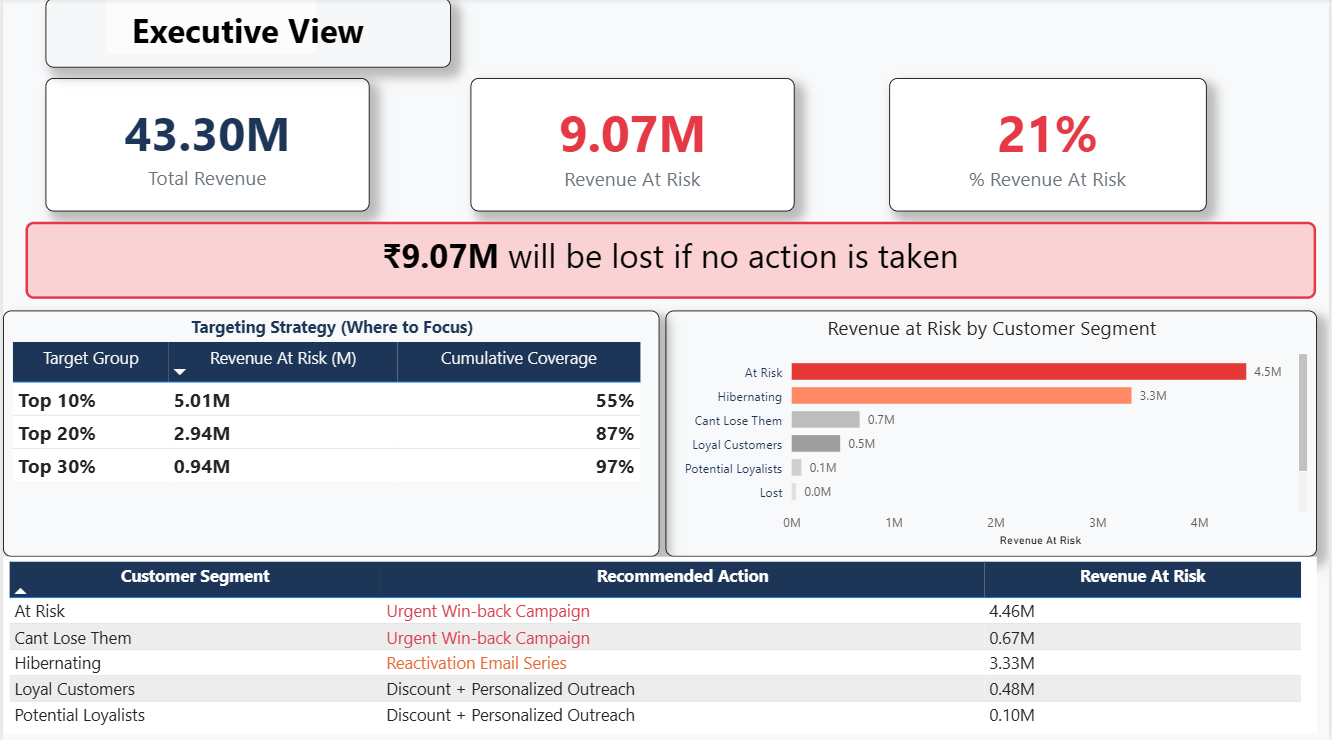

Layout of this report page (visuals, bound fields, positions):
{"tool":"powerbi","page":{"name":"Page 1","canvas":[1280,720],"ordinal":0},"visuals":[{"type":"card","fields":{"Values":["churn_scores.Total Revenue"]},"box":[41.2,76.8,312.9,129],"z":0},{"type":"card","fields":{"Values":["churn_scores.% Revenue At Risk"]},"box":[854.9,76.8,306,129],"z":1000},{"type":"card","fields":{"Values":["churn_scores.Revenue At Risk"]},"box":[451.5,76.8,312.9,129],"z":2000},{"type":"textbox","box":[22,215.4,1246,74.1],"z":4000},{"type":"tableEx","title":"Targeting Strategy (Where to Focus)","fields":{"Values":["churn_scores.Target Group 2","churn_scores.Revenue At Risk (M)","churn_scores.Cumulative Coverage"]},"box":[0,301.9,634,237.4],"z":5000},{"type":"clusteredBarChart","title":"Revenue at Risk by Customer Segment","fields":{"Category":["churn_scores.rfm_segment"],"Y":["churn_scores.Revenue At Risk"]},"box":[639.5,301.9,628.5,237.4],"z":6000},{"type":"tableEx","fields":{"Values":["churn_scores.rfm_segment","churn_scores.recommended_action","churn_scores.Revenue At Risk (M)"]},"box":[0,539.3,1267.9,171.5],"z":7000},{"type":"textbox","box":[100.2,0,201.7,53.5],"z":8000},{"type":"textbox","box":[41.2,0,391.1,67.2],"z":9000}]}

Visuals, with their boxes in screenshot pixels (x1, y1, x2, y2), scaled from the page's 1280x720 canvas onto the 1332x740 screenshot:
card - churn_scores.Total Revenue: [43, 79, 368, 212]
card - churn_scores.% Revenue At Risk: [890, 79, 1208, 212]
card - churn_scores.Revenue At Risk: [470, 79, 795, 212]
textbox: [23, 221, 1320, 298]
"Targeting Strategy (Where to Focus)" tableEx: [0, 310, 660, 554]
"Revenue at Risk by Customer Segment" clusteredBarChart: [665, 310, 1320, 554]
tableEx - churn_scores.rfm_segment x churn_scores.recommended_action: [0, 554, 1319, 731]
textbox: [104, 0, 314, 55]
textbox: [43, 0, 450, 69]
